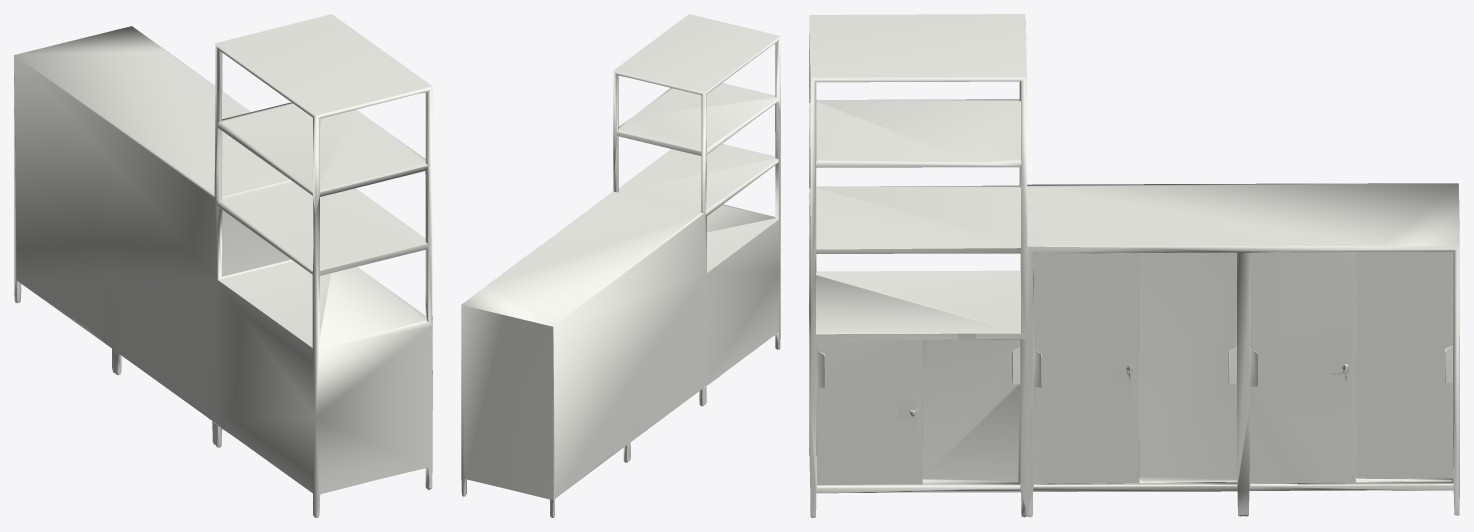
File: cabinet1.fbx
3 renders of one model, left to right at view 1: azimuth 30°, elevation 25°; view 2: azimuth 150°, elevation 25°; view 3: azimuth 270°, elevation 25°, orthographic. The views are drawn at different scales.
Visible parts, largest first — view 1: TROTTEN_194.418.38; view 2: TROTTEN_194.418.38; view 3: TROTTEN_194.418.38.
Part boxes in pixels (x1=…): TROTTEN_194.418.38: x1=14, y1=14, x2=432, y2=517; TROTTEN_194.418.38: x1=461, y1=14, x2=780, y2=517; TROTTEN_194.418.38: x1=809, y1=14, x2=1459, y2=517.
Size of the model in its own units: 59.13 by 180 by 240.
Materials: 1 (1 with a texture image).
